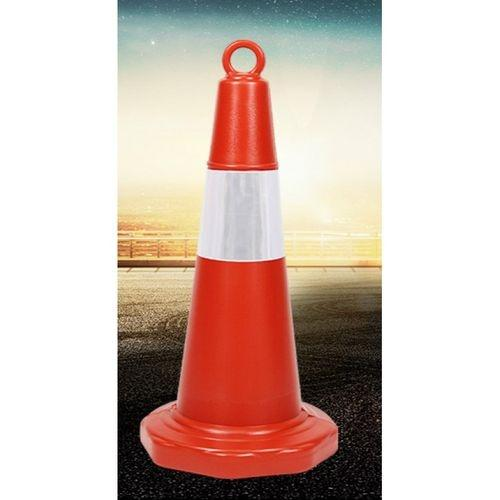cone_barrel: (148, 38, 321, 476)
